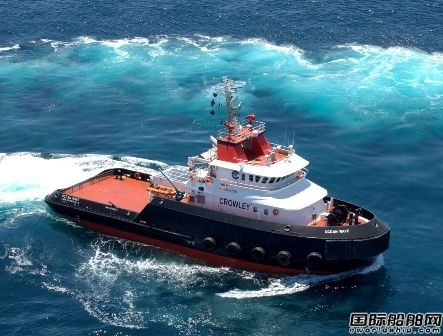otherboat: (42, 87, 394, 277)
